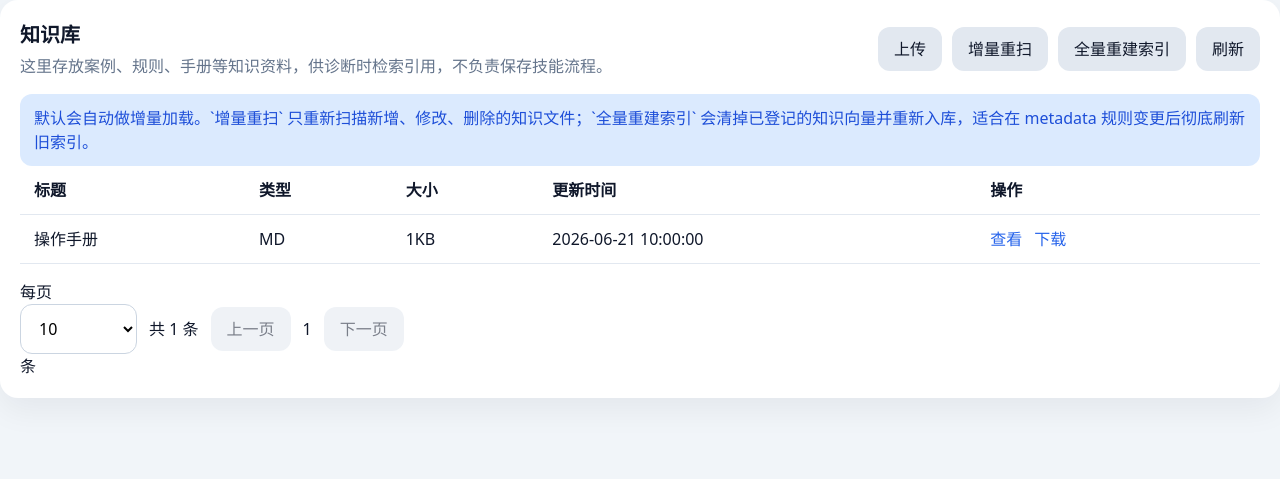
Test: KnowledgePage › Markdown 预览失败时显示错误提示并清理预览弹窗
Click the button "查看": (1006,239) top-left (990, 227), bottom-right (1022, 251)
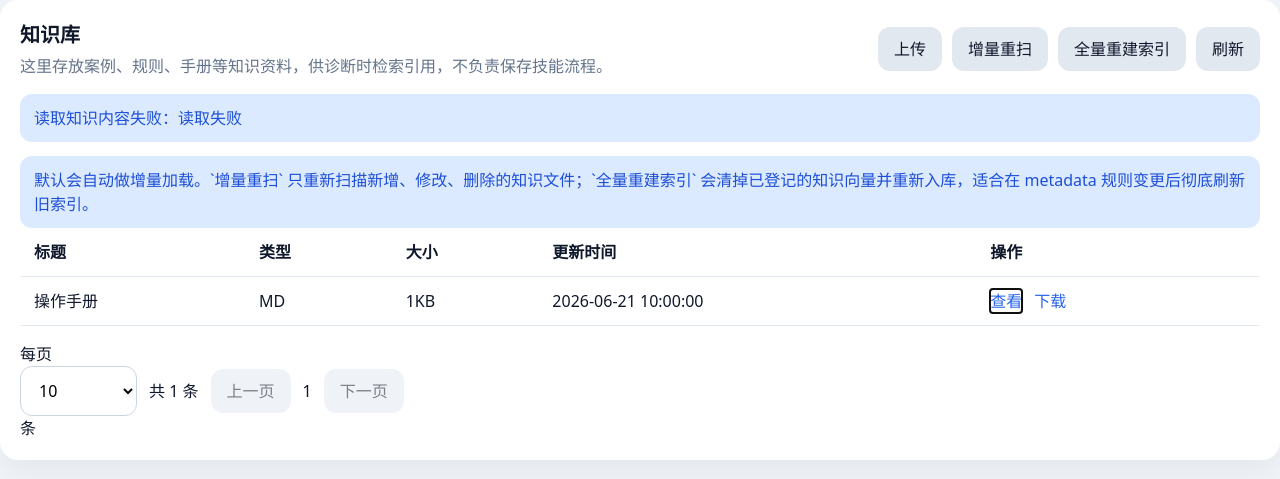
Expected: the text "读取知识内容失败：读取失败" is shown, top-left (20, 94), bottom-right (1260, 142)
